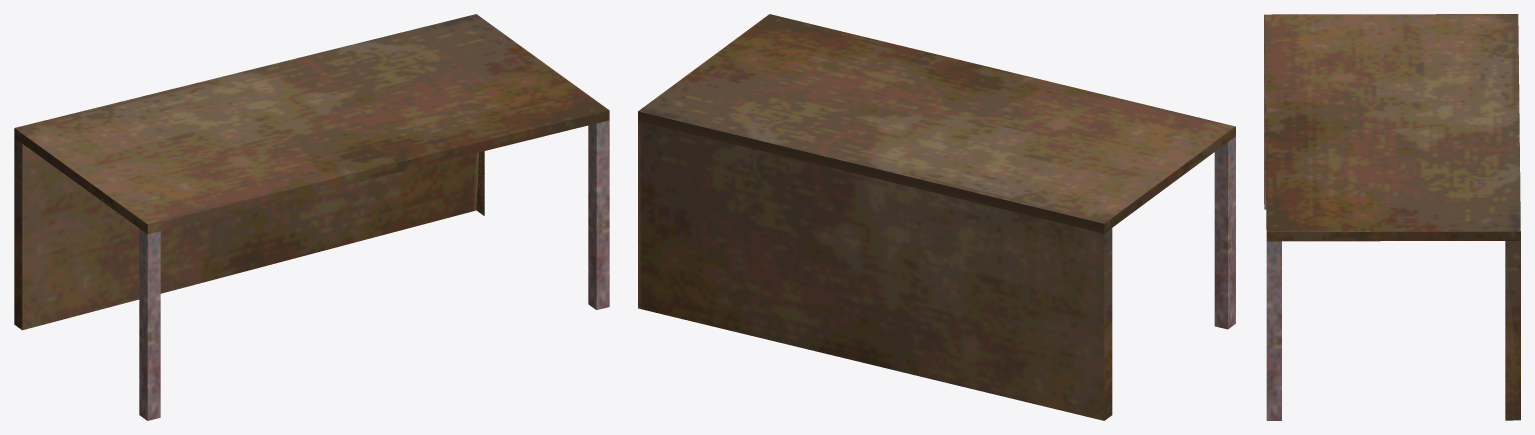
Rendered from desk1_alt4_weathered.obj.
3 renders of one model, left to right at view 1: azimuth 30°, elevation 25°; view 2: azimuth 150°, elevation 25°; view 3: azimuth 270°, elevation 25°, orthographic. The views are drawn at different scales.
Visible parts, largest first — view 1: desk1_alt4_weathered; view 2: desk1_alt4_weathered; view 3: desk1_alt4_weathered.
Boxes of the visible parts, x1,y1,x2,y2 form: desk1_alt4_weathered: [14, 14, 609, 420]; desk1_alt4_weathered: [638, 14, 1235, 420]; desk1_alt4_weathered: [1264, 14, 1520, 420].
Bounding box in the file's own units: 2.21 × 0.8911 × 1.1.
